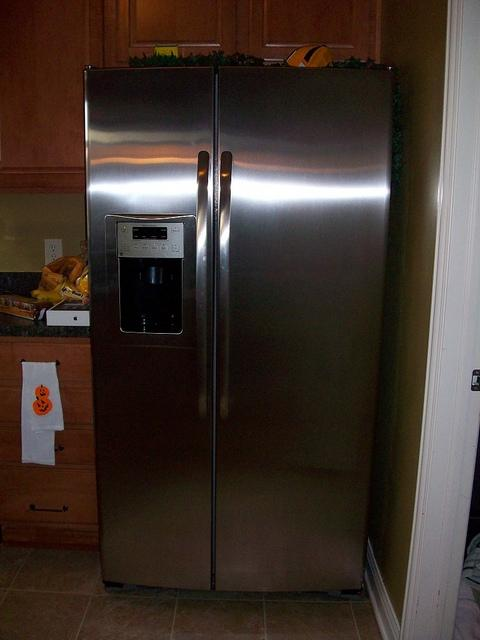apple: (73, 315, 78, 321)
banana: (30, 277, 65, 298), (35, 292, 62, 304), (68, 262, 82, 284), (44, 273, 62, 287)
pumpkin: (33, 396, 52, 416), (35, 384, 50, 399)
